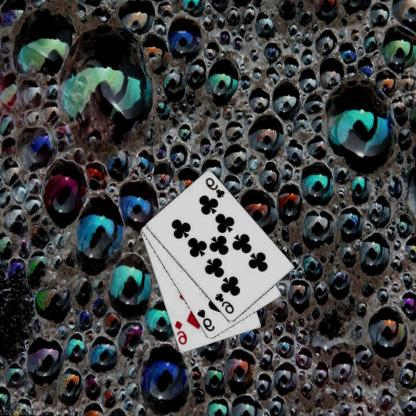6S: (196, 307, 218, 333)
9C: (204, 176, 228, 200), (214, 291, 237, 316)
9D: (174, 318, 190, 346)
